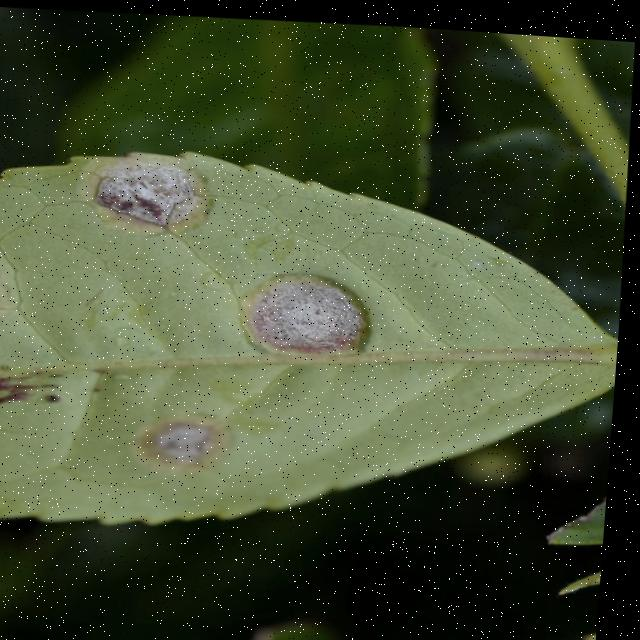Tea cake: (247, 261, 359, 356), (87, 144, 203, 223), (138, 396, 235, 474)
